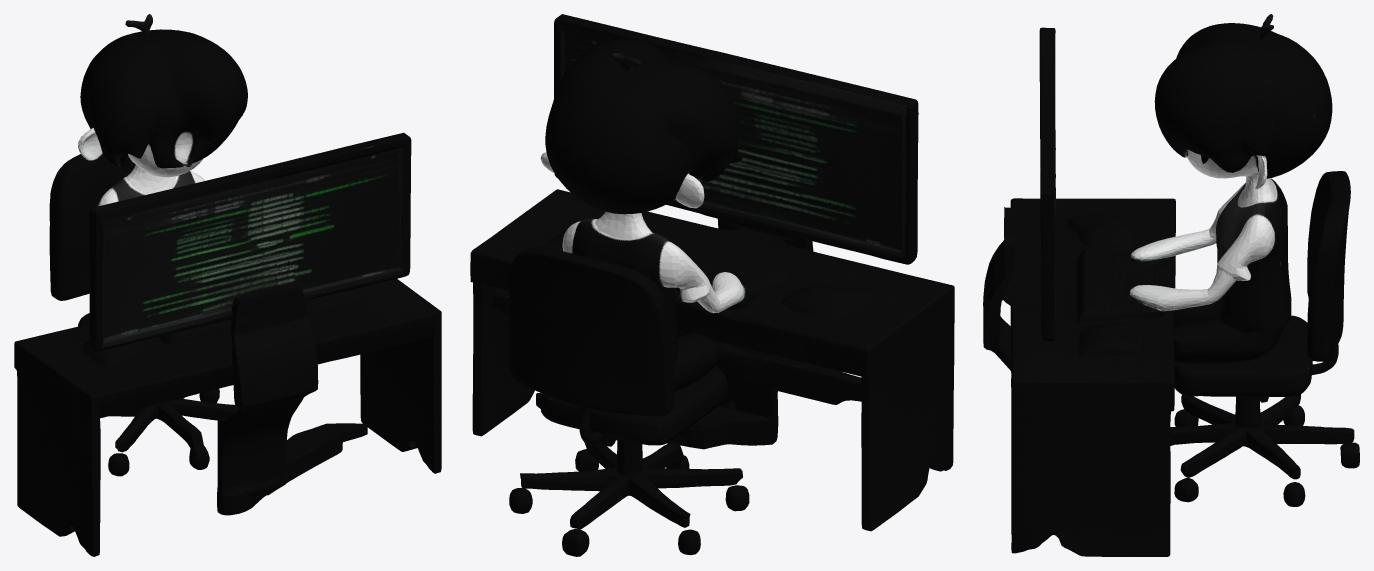
File: avatar2.glb
3 views of the same model, side by side, from view 1: azimuth 30°, elevation 25°; view 2: azimuth 150°, elevation 25°; view 3: azimuth 270°, elevation 25° (orthographic). The views are drawn at different scales.
Visible parts, largest first — view 1: world; view 2: world; view 3: world.
Boxes of the visible parts, x1=… form: world: x1=14, y1=14, x2=441, y2=556; world: x1=470, y1=14, x2=954, y2=556; world: x1=983, y1=14, x2=1359, y2=556.
Bounding box in the file's own units: 0.8946 × 1 × 0.7724.
1 material, 1 textured.
